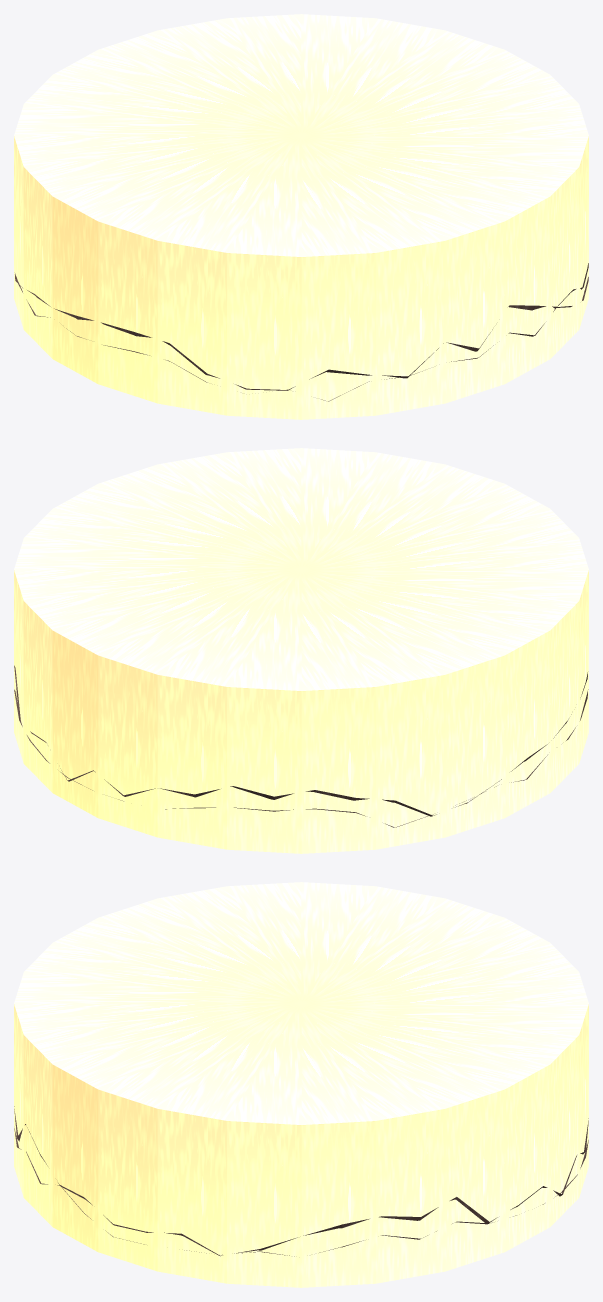
Rendered from level.gltf.
The picture shows the model from 3 angles, top to bottom: view 1: azimuth 30°, elevation 25°; view 2: azimuth 150°, elevation 25°; view 3: azimuth 270°, elevation 25°; orthographic projection.
Parts seen in each view (by area): view 1: SCENE_GRID; view 2: SCENE_GRID; view 3: SCENE_GRID.
Part boxes in pixels (x1=…): SCENE_GRID: x1=14, y1=14, x2=588, y2=419; SCENE_GRID: x1=14, y1=448, x2=588, y2=853; SCENE_GRID: x1=14, y1=882, x2=588, y2=1287.
Size of what is drawn, in the model's own units: 242 by 75.69 by 242.
Materials: 2 (2 with a texture image).
